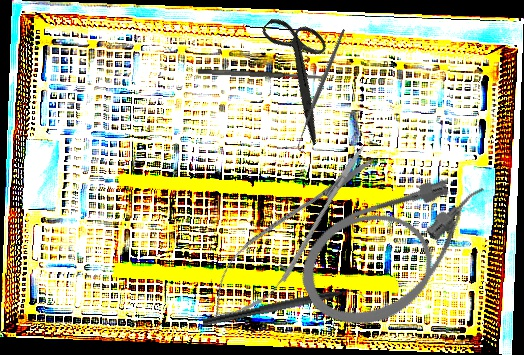Cannula: (284, 154, 516, 346)
Chopper: (201, 281, 367, 338)
Hook Surgical: (256, 27, 389, 154)
Iris Scissors: (228, 2, 373, 147)
Micro Scissor: (194, 132, 390, 336)
Spatula Surgical: (197, 67, 323, 82)
